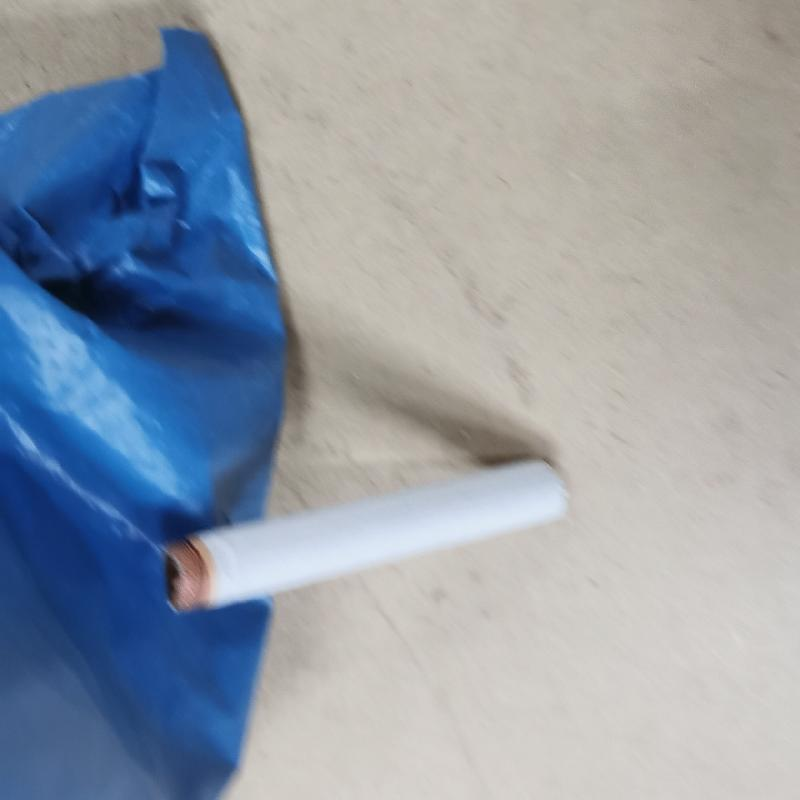cigarette: (161, 455, 583, 616)
